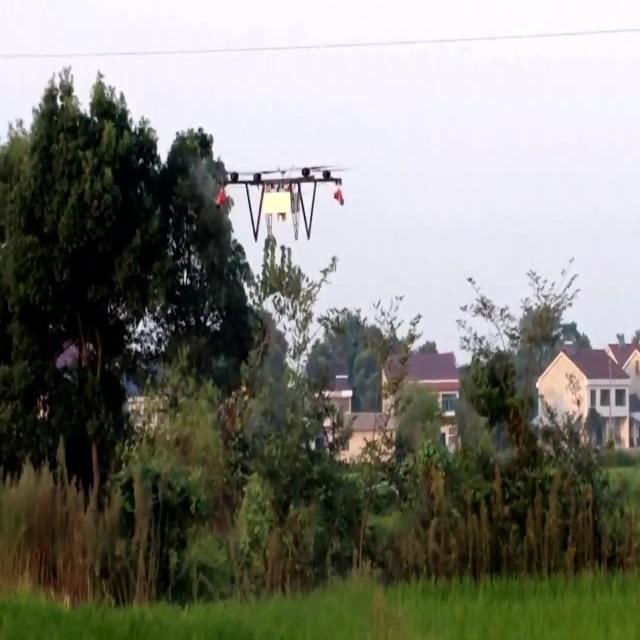drone: (215, 159, 350, 243)
